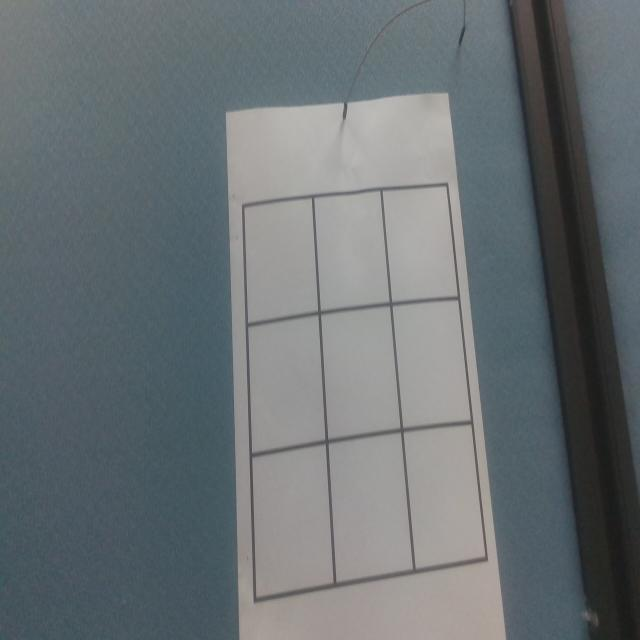null: (328, 431, 416, 588), (252, 443, 334, 601), (404, 426, 486, 574), (320, 304, 404, 443), (249, 315, 329, 456), (394, 298, 471, 431), (245, 196, 320, 323), (316, 189, 392, 312), (385, 183, 460, 305)
table: (210, 177, 492, 608)
